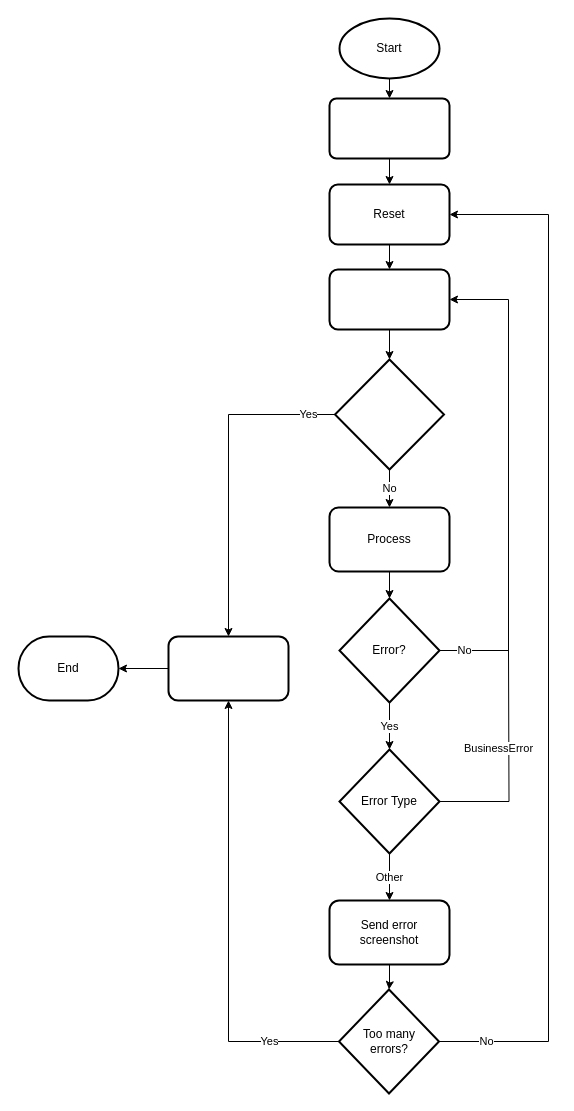
Some shapes in this 574 by 1111 pixel diagram are drawn without their labels. The centre of each missing label's shape, as x and y in pixels:
"Clean up" goes at (x=228, y=668).
"Get new task" goes at (x=389, y=299).
"Initialize" goes at (x=389, y=128).
"Queue empty?" goes at (x=389, y=414).
